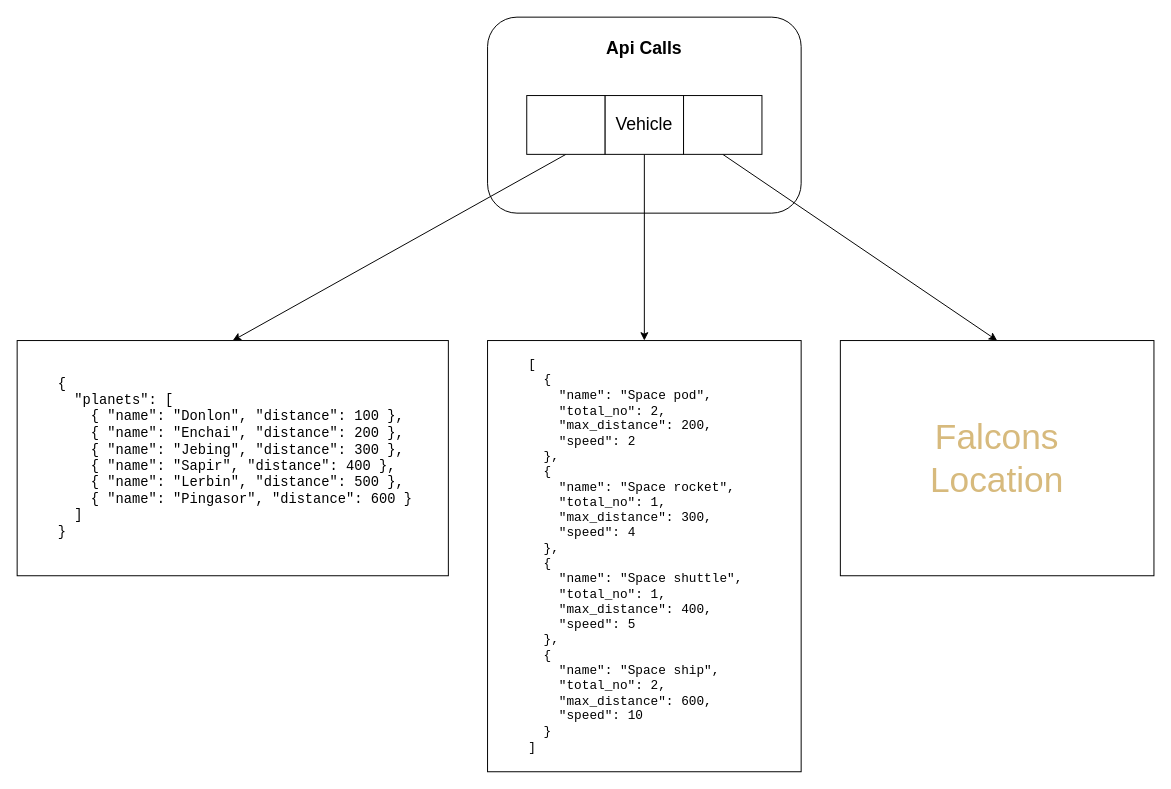
Some shapes in this 1171 by 789 pixel diagram are drawn without their labels. The shapes that lost their labels are listed below. From the top down, each one's box as (x1, y1, x2, y2) in pixels, then its label:
(526, 95, 605, 154): Planet
(683, 95, 762, 154): FindF
